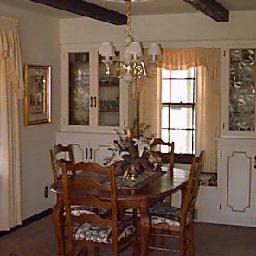Armario: (60, 43, 130, 134)
Ventana: (155, 56, 213, 154)
